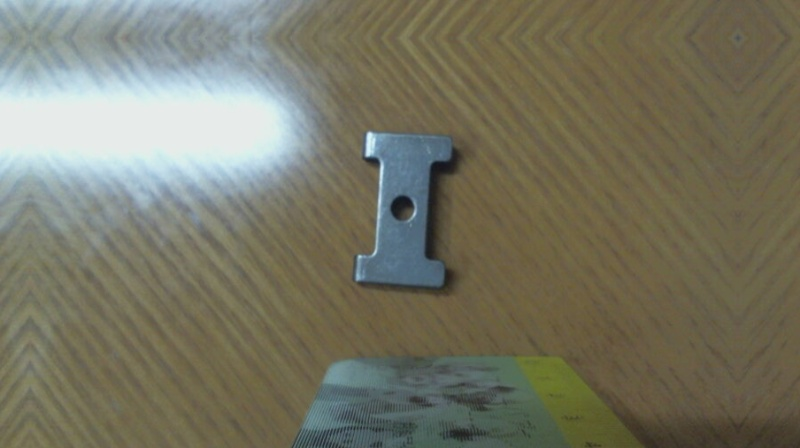O002: (353, 129, 454, 297)
